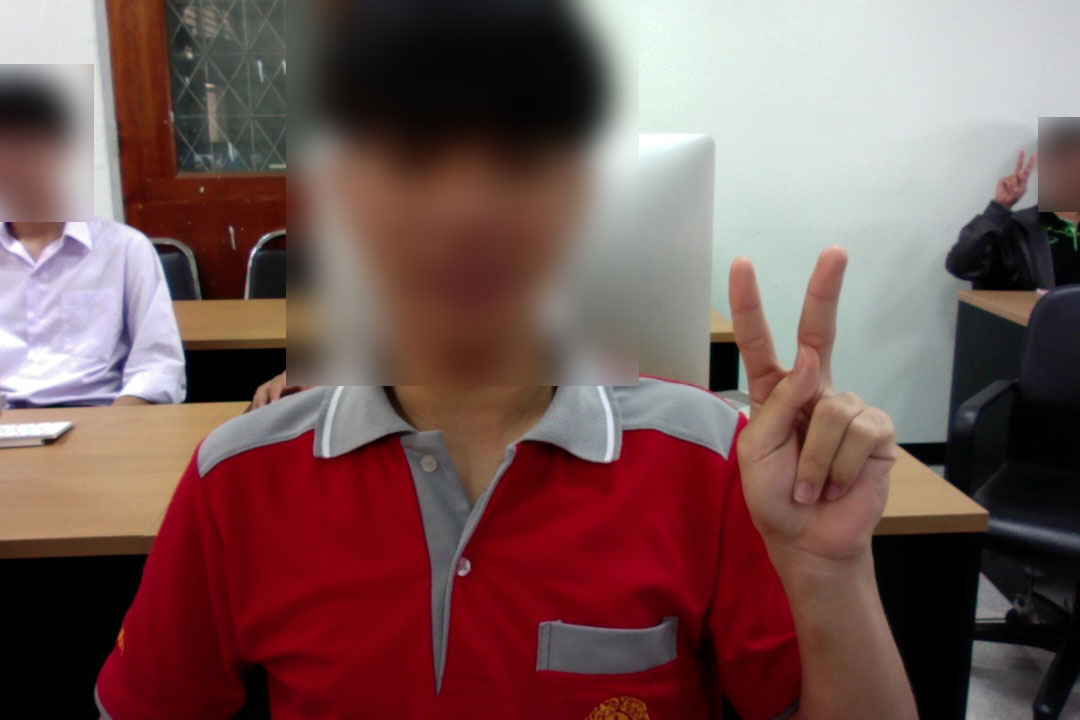ko: (722, 232, 905, 564)
